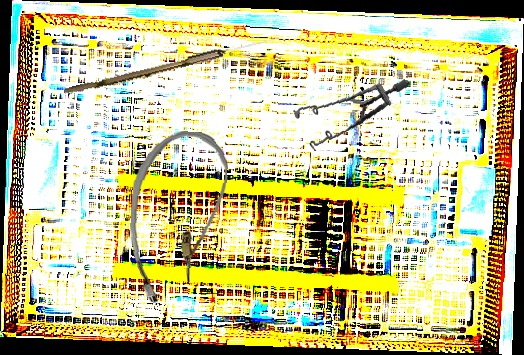Cannula: (125, 127, 230, 308)
Speculum: (287, 64, 411, 163)
Surgical Spoon: (63, 31, 281, 100)
